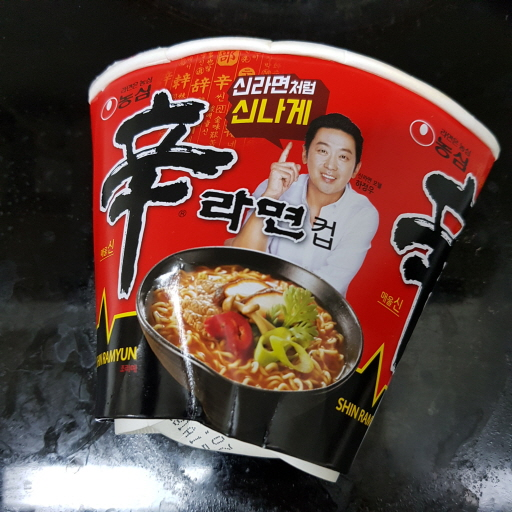Paper_1: (85, 36, 499, 483)
